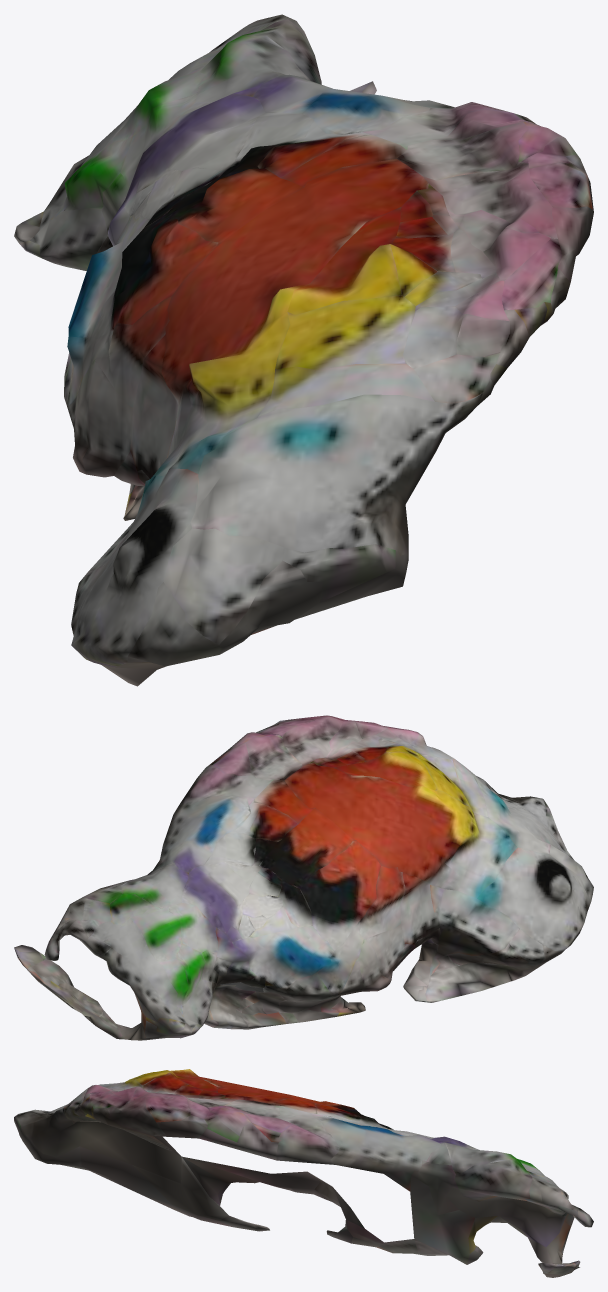
File: hall.glb
3 views of the same model, one above another, from view 1: azimuth 30°, elevation 25°; view 2: azimuth 150°, elevation 25°; view 3: azimuth 270°, elevation 25° (orthographic). The views are drawn at different scales.
Bounding box in the file's own units: 0.6656 × 0.3774 × 0.9271.
Materials: 1 (1 with a texture image).
